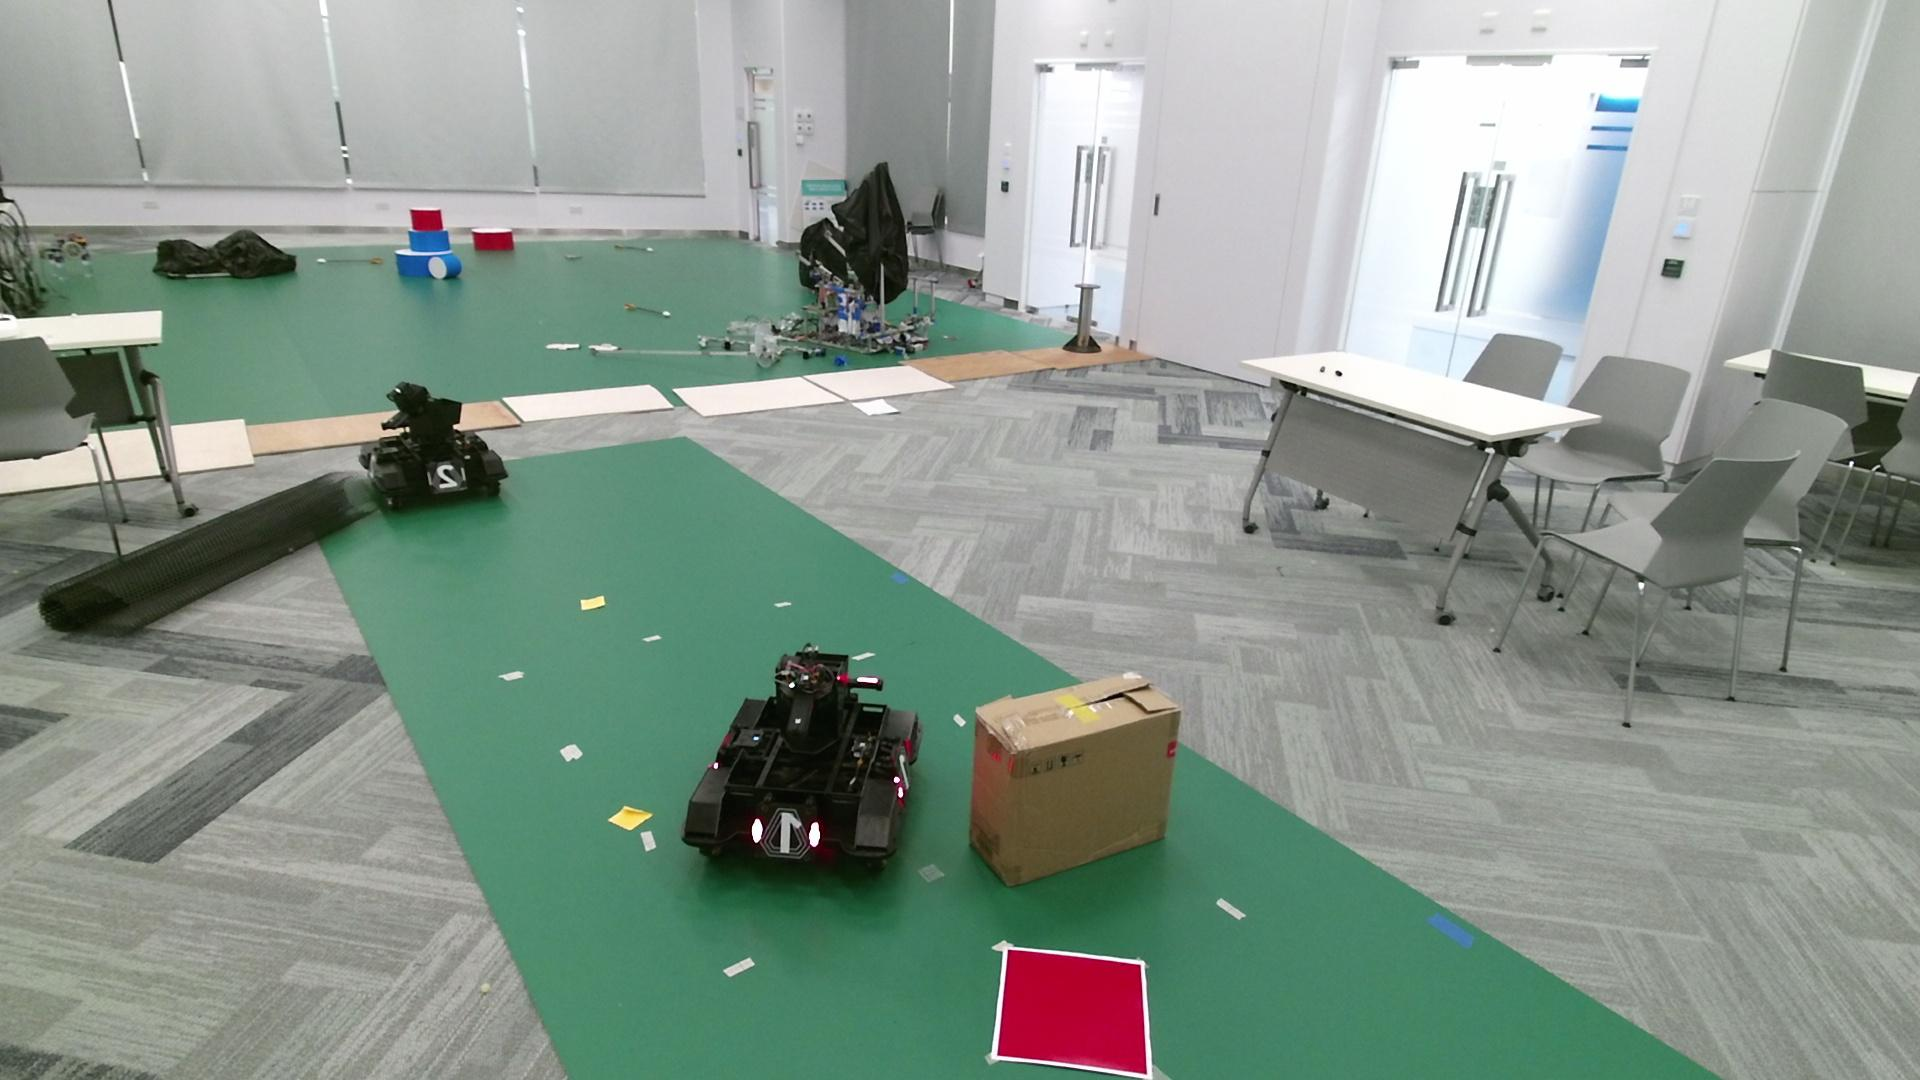robot: (682, 641, 924, 878), (357, 380, 512, 514)
